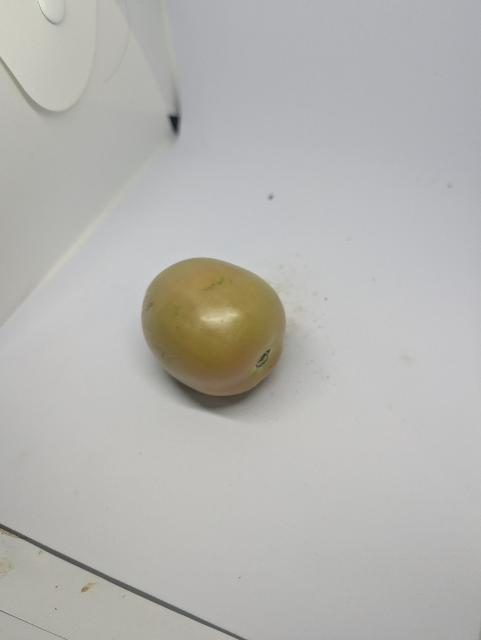breaker: (142, 258, 286, 396)
